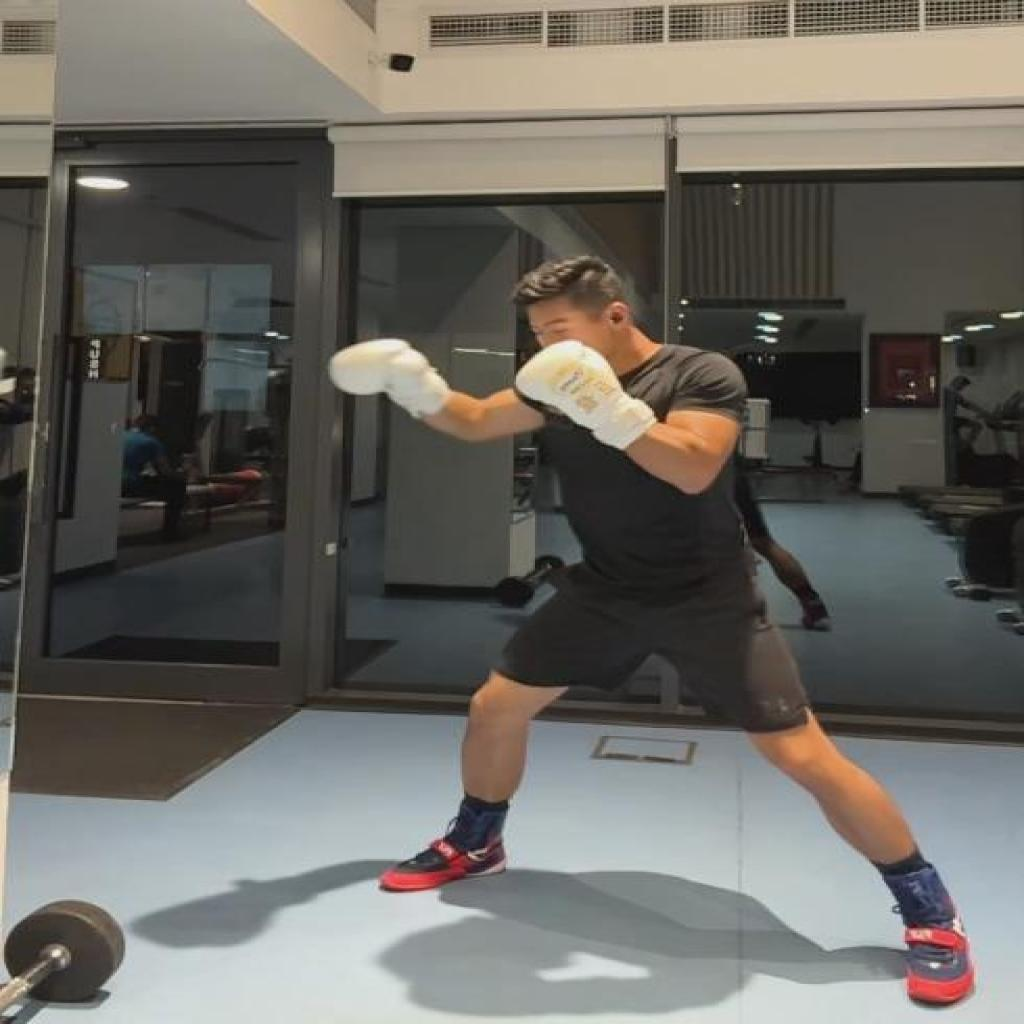jab: (318, 251, 978, 1011)
